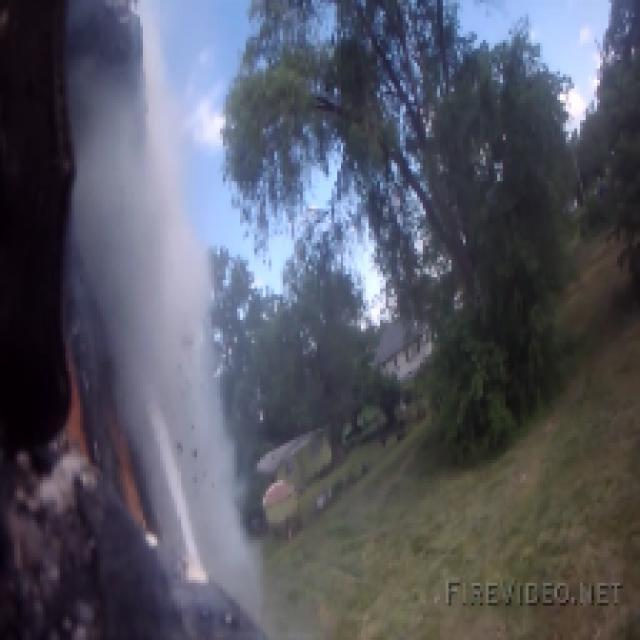Smoke: (57, 17, 332, 640)
